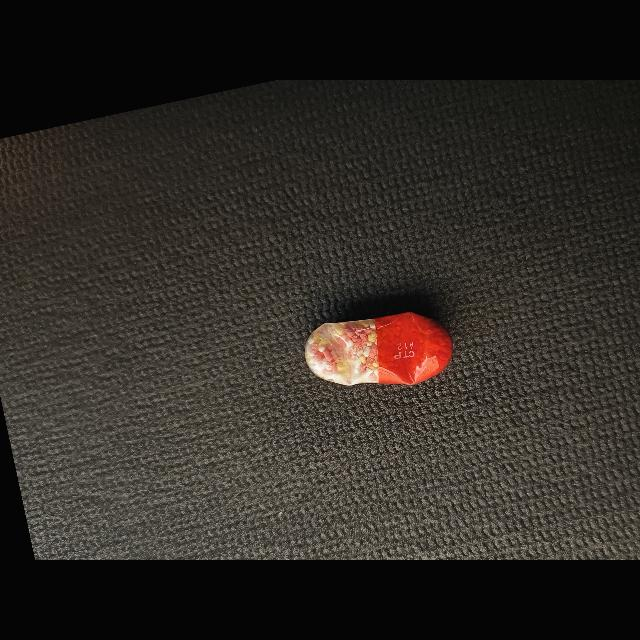Defective Capsule: (305, 312, 453, 386)
